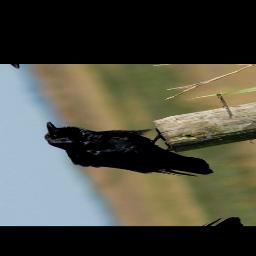Crow: (35, 104, 218, 195)
